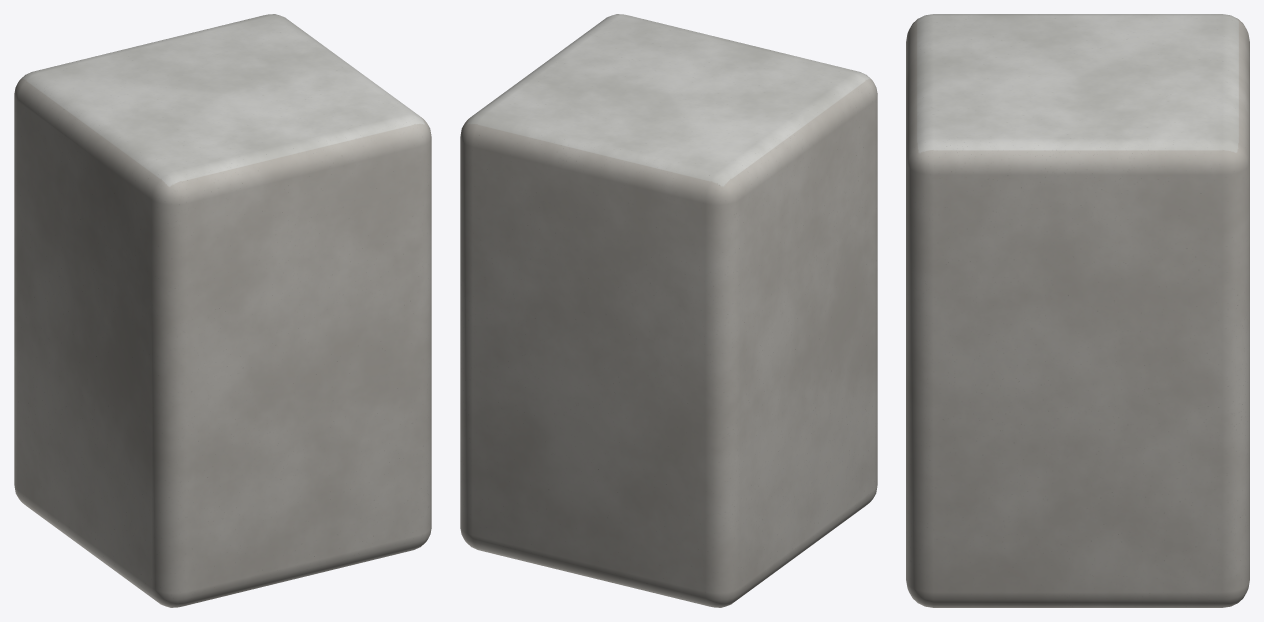
The model's file is SM_Tile_Polished.fbx.
The picture shows the model from 3 angles, left to right: view 1: azimuth 30°, elevation 25°; view 2: azimuth 150°, elevation 25°; view 3: azimuth 270°, elevation 25°; orthographic projection. The views are drawn at different scales.
Visible parts, largest first — view 1: SM_Tile_Polished; view 2: SM_Tile_Polished; view 3: SM_Tile_Polished.
Boxes of the visible parts, bbox=[...] form: SM_Tile_Polished: bbox=[14, 14, 431, 607]; SM_Tile_Polished: bbox=[460, 14, 877, 607]; SM_Tile_Polished: bbox=[906, 14, 1249, 607].
Bounding box in the file's own units: 2 × 3 × 2.
